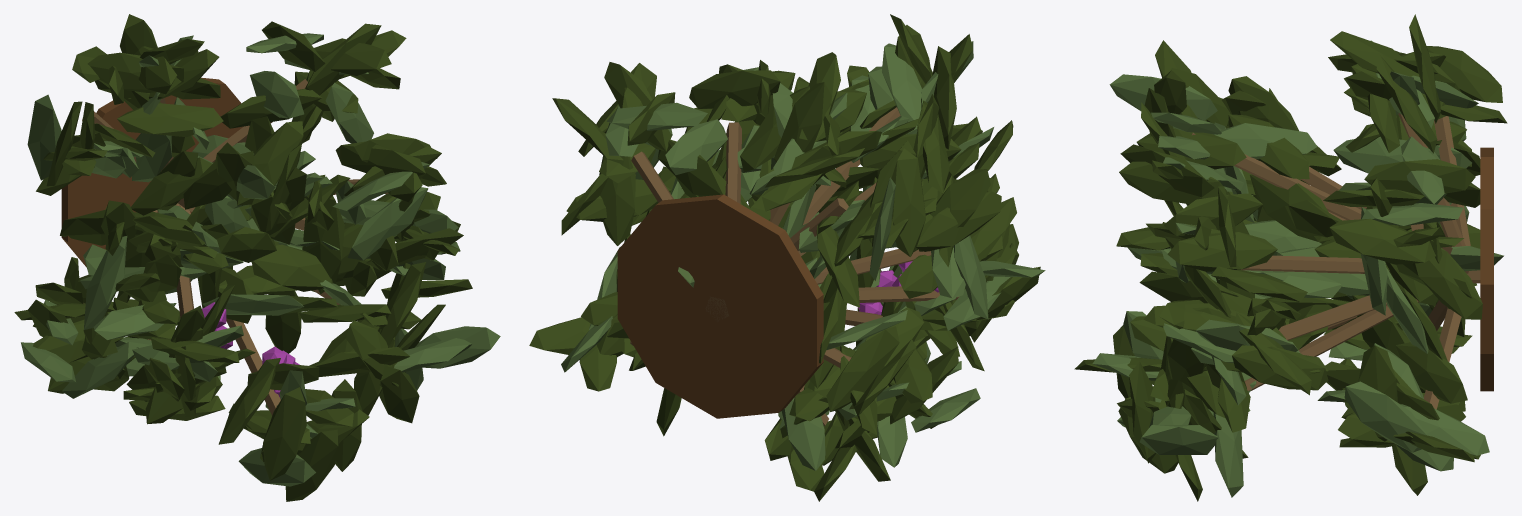
File: 4_mature_partial.obj
3 renders of one model, left to right at view 1: azimuth 30°, elevation 25°; view 2: azimuth 150°, elevation 25°; view 3: azimuth 270°, elevation 25°, orthographic. The views are drawn at different scales.
Parts seen in each view (by area): view 1: 4_mature_partial; view 2: 4_mature_partial; view 3: 4_mature_partial.
Part boxes in pixels (x1,y1,x2,y2): 4_mature_partial: (14,14,500,501); 4_mature_partial: (529,14,1045,501); 4_mature_partial: (1074,14,1507,501).
Bounding box in the file's own units: 0.6981 × 0.6962 × 0.629.
